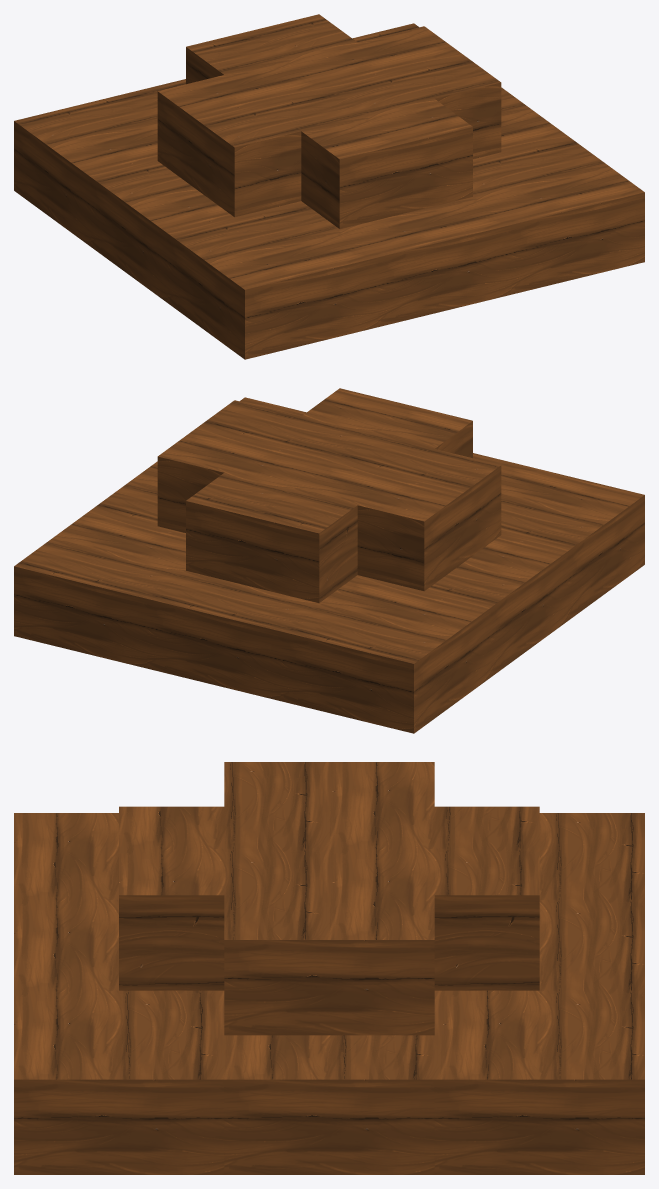
The model's file is ApiaryStand.FBX.
3 renders of one model, top to bottom at view 1: azimuth 30°, elevation 25°; view 2: azimuth 150°, elevation 25°; view 3: azimuth 270°, elevation 25°, orthographic. The views are drawn at different scales.
Parts seen in each view (by area): view 1: ApiaryStand; view 2: ApiaryStand; view 3: ApiaryStand.
Part boxes in pixels (box(x1,y1,x2,y2)): ApiaryStand: box(14, 14, 644, 359); ApiaryStand: box(14, 388, 644, 733); ApiaryStand: box(14, 762, 644, 1174).
Size of the model in its own units: 30 by 10 by 30.
